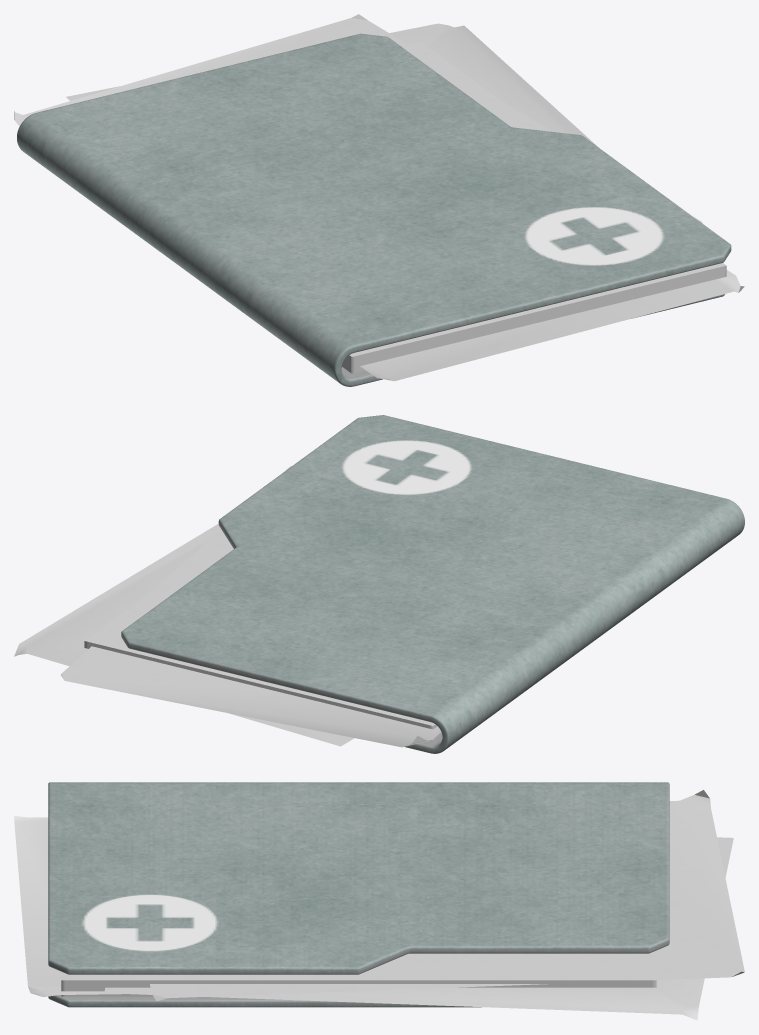
File: SM_Clue_HospitalLog.fbx
The picture shows the model from 3 angles, top to bottom: view 1: azimuth 30°, elevation 25°; view 2: azimuth 150°, elevation 25°; view 3: azimuth 270°, elevation 25°; orthographic projection. The views are drawn at different scales.
Visible parts, largest first — view 1: SM_Clue_HospitalLog; view 2: SM_Clue_HospitalLog; view 3: SM_Clue_HospitalLog.
Boxes of the visible parts, bbox=[...] form: SM_Clue_HospitalLog: bbox=[14, 14, 744, 386]; SM_Clue_HospitalLog: bbox=[14, 415, 744, 753]; SM_Clue_HospitalLog: bbox=[14, 782, 744, 1020].
Bounding box in the file's own units: 30.49 × 2.63 × 43.63.
Materials: 1 (1 with a texture image).
